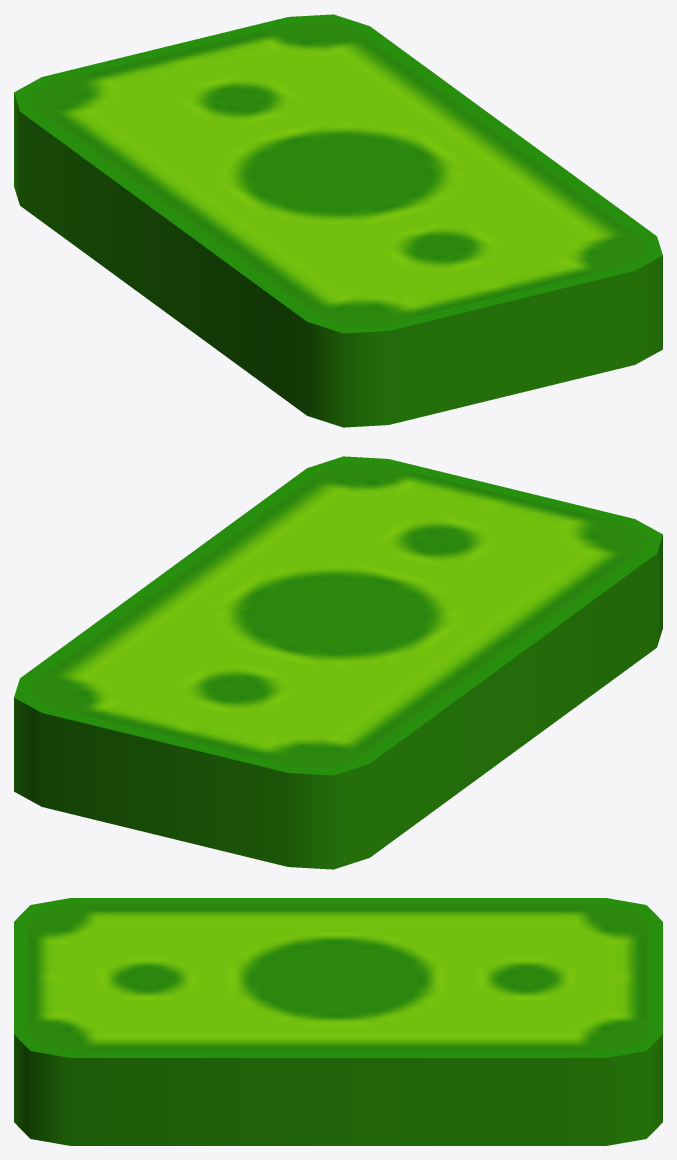
The model's file is money.fbx.
3 renders of one model, top to bottom at view 1: azimuth 30°, elevation 25°; view 2: azimuth 150°, elevation 25°; view 3: azimuth 270°, elevation 25°, orthographic. The views are drawn at different scales.
Visible parts, largest first — view 1: Money; view 2: Money; view 3: Money.
Part boxes in pixels (bbox=[...]): Money: bbox=[14, 14, 662, 427]; Money: bbox=[14, 456, 662, 869]; Money: bbox=[14, 898, 662, 1145].
Size of the model in its own units: 0.449 by 0.1153 by 0.7707.
